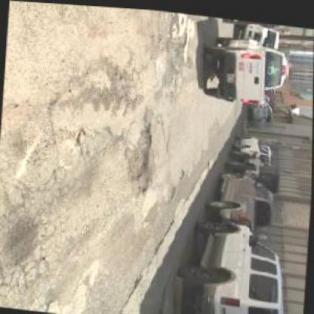Hueco: (130, 119, 156, 179), (134, 175, 152, 194), (180, 28, 192, 48)
